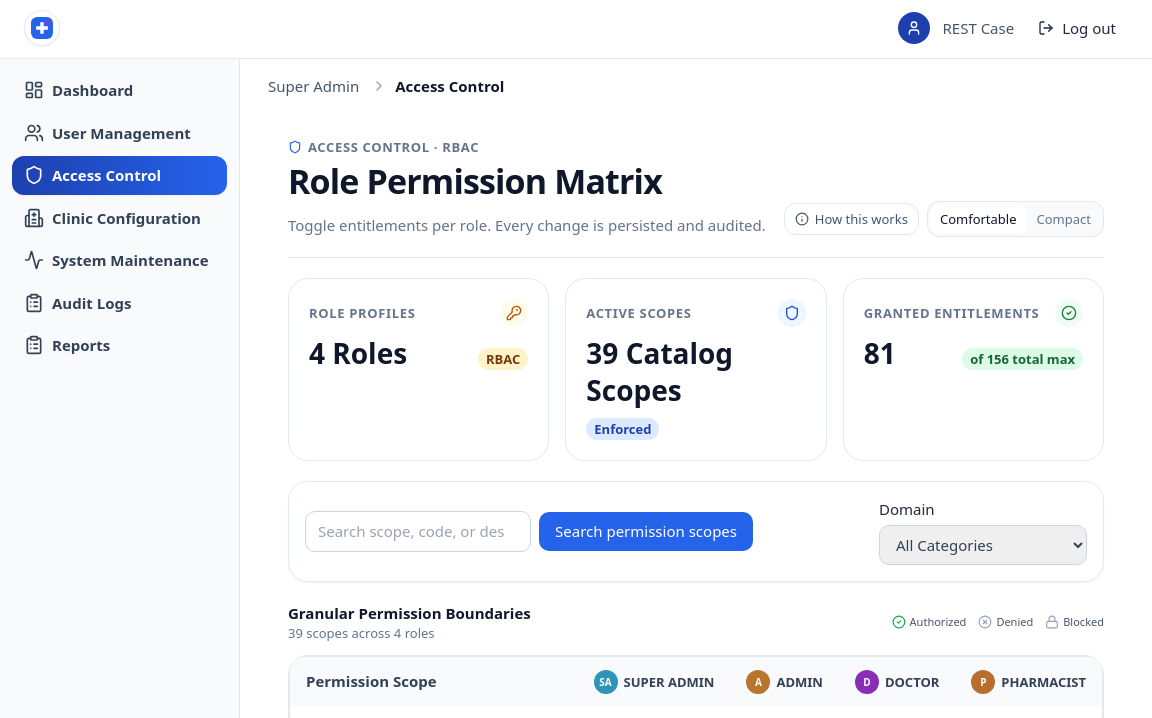
Test: super-admin access control — REST cases › narrows the matrix client-side through the debounced search
Type "backup" into the search field named "Search permission scopes" at coordinates (418, 532), box [305,512,531,552]
(page scrolled)
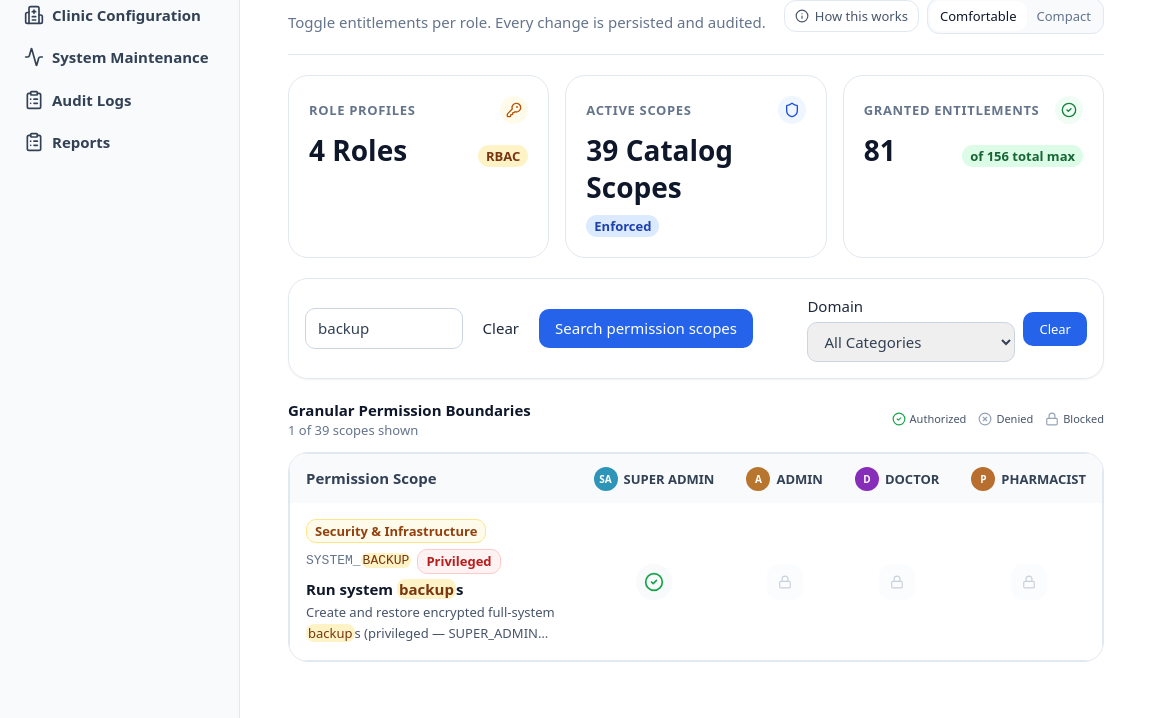
Expected: the button named "Grant Run system backups for DOCTOR" is shown, [879,564,915,600]
Now the text "1 of 39 scopes shown" is shown, box [288,422,418,440]
